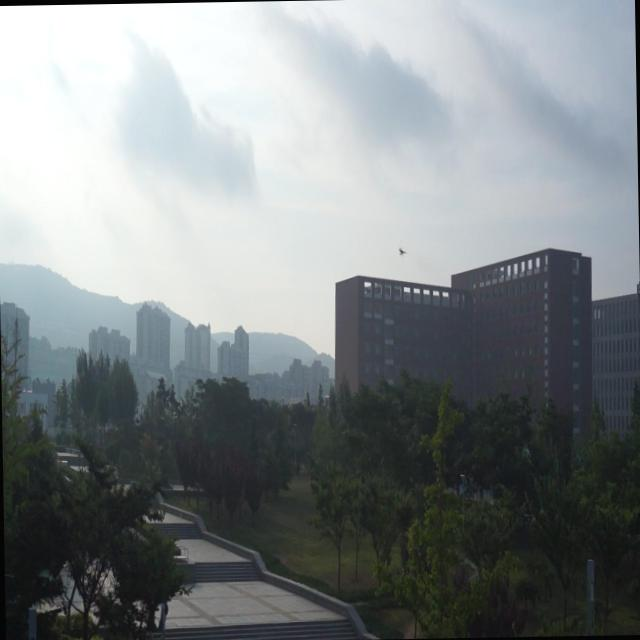drone: (397, 238, 407, 258)
